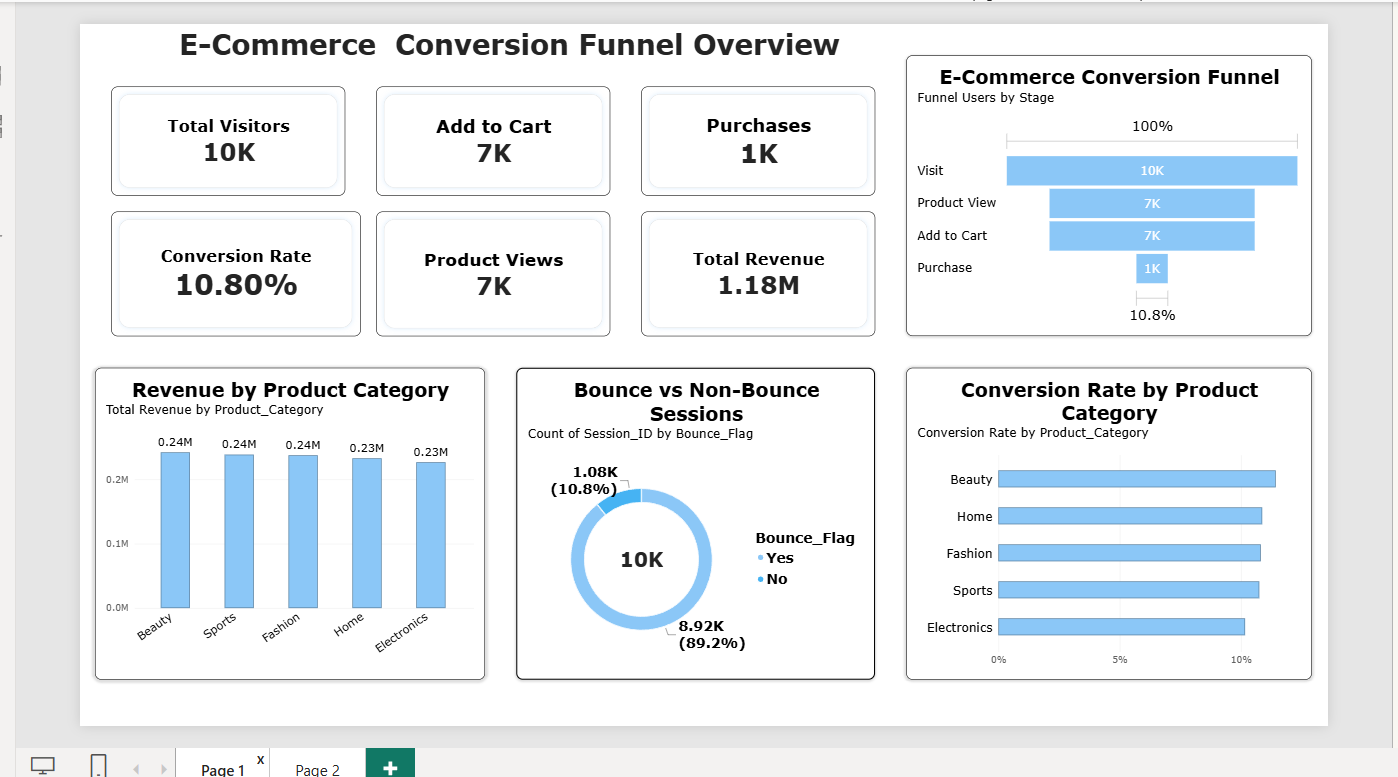

The page's visual inventory and layout, read from the dashboard file:
{"tool":"powerbi","page":{"name":"Page 1","canvas":[1920,1080],"ordinal":0},"visuals":[{"type":"textbox","box":[0,0,1272,72],"z":0},{"type":"cardVisual","fields":{"Data":["ecommerce_funnel_dashboard_ready.Total Visitors"]},"box":[48,96,360,168],"z":1000},{"type":"cardVisual","fields":{"Data":["ecommerce_funnel_dashboard_ready.Product Views"]},"box":[456,288,360,192],"z":2000},{"type":"cardVisual","fields":{"Data":["ecommerce_funnel_dashboard_ready.Overall Conversion Rate"]},"box":[48,288,384,192],"z":3000},{"type":"cardVisual","fields":{"Data":["ecommerce_funnel_dashboard_ready.Purchases"]},"box":[864,96,360,168],"z":4000},{"type":"cardVisual","fields":{"Data":["ecommerce_funnel_dashboard_ready.Add to Cart"]},"box":[456,96,360,168],"z":5000},{"type":"donutChart","title":"Bounce vs Non-Bounce Sessions","fields":{"Category":["ecommerce_funnel_dashboard_ready.Bounce_Flag"],"Y":["CountNonNull(ecommerce_funnel_dashboard_ready.Session_ID)"]},"box":[672,528,552,480],"z":6000},{"type":"columnChart","title":"Revenue by Product Category","fields":{"Y":["ecommerce_funnel_dashboard_ready.Total Revenue"],"Category":["ecommerce_funnel_dashboard_ready.Product_Category"]},"box":[24,528,600,480],"z":7000},{"type":"barChart","title":"Conversion Rate by Product Category","fields":{"Y":["ecommerce_funnel_dashboard_ready.Overall Conversion Rate"],"Category":["ecommerce_funnel_dashboard_ready.Product_Category"]},"box":[1272,528,624,480],"z":8000},{"type":"funnel","title":"E-Commerce Conversion Funnel","fields":{"Category":["Funnel Stages.Stage"],"Y":["Funnel Stages.Funnel Users"]},"box":[1272,48,624,432],"z":9000},{"type":"cardVisual","fields":{"Data":["ecommerce_funnel_dashboard_ready.Total Revenue"]},"box":[864,288,360,192],"z":10000}]}

Visuals, with their boxes on the page's 1920x1080 design canvas (x1, y1, x2, y2). These are canvas units, not pixel positions in the 1398x777 screenshot, which may show the page scaled, cropped or inside an application window:
textbox: 0 0 1272 72
cardVisual - ecommerce_funnel_dashboard_ready.Total Visitors: 48 96 408 264
cardVisual - ecommerce_funnel_dashboard_ready.Product Views: 456 288 816 480
cardVisual - ecommerce_funnel_dashboard_ready.Overall Conversion Rate: 48 288 432 480
cardVisual - ecommerce_funnel_dashboard_ready.Purchases: 864 96 1224 264
cardVisual - ecommerce_funnel_dashboard_ready.Add to Cart: 456 96 816 264
"Bounce vs Non-Bounce Sessions" donutChart: 672 528 1224 1008
"Revenue by Product Category" columnChart: 24 528 624 1008
"Conversion Rate by Product Category" barChart: 1272 528 1896 1008
"E-Commerce Conversion Funnel" funnel: 1272 48 1896 480
cardVisual - ecommerce_funnel_dashboard_ready.Total Revenue: 864 288 1224 480
